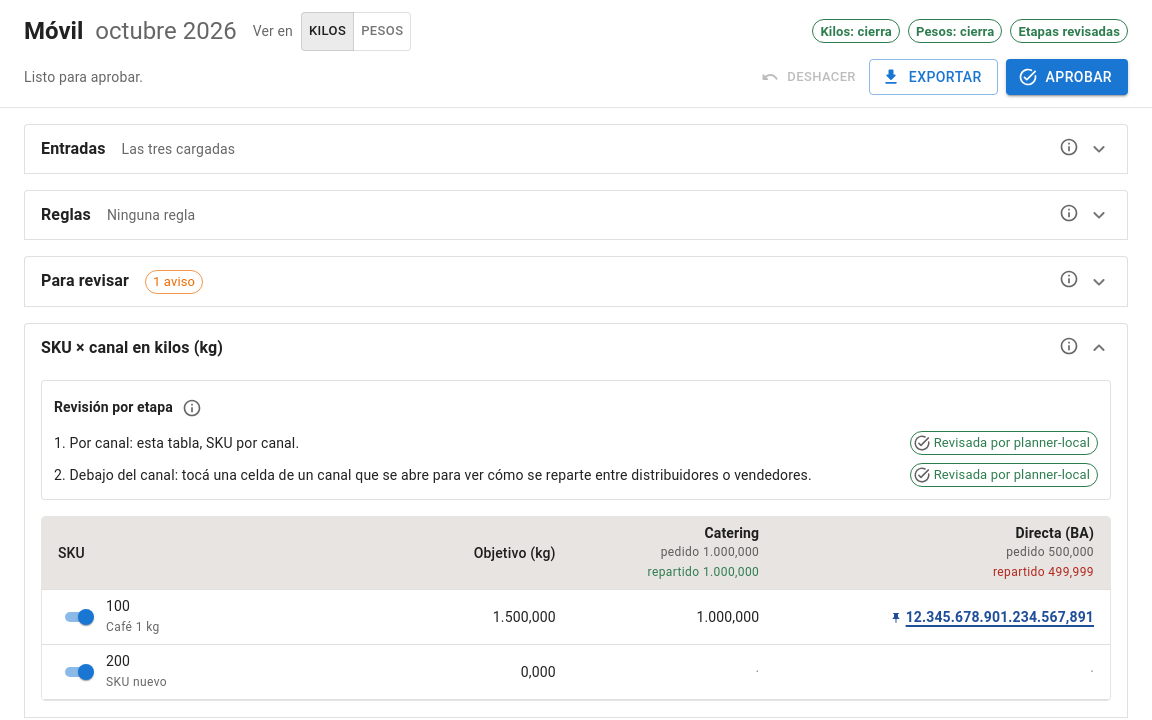
Scenario: MovilPage › desde el aviso de una celda que no se abre se va a esa celda
This screenshot has width=1152, height=720.
Click the button "Para revisar 1 aviso": click(85, 281) [41,270,1111,294]
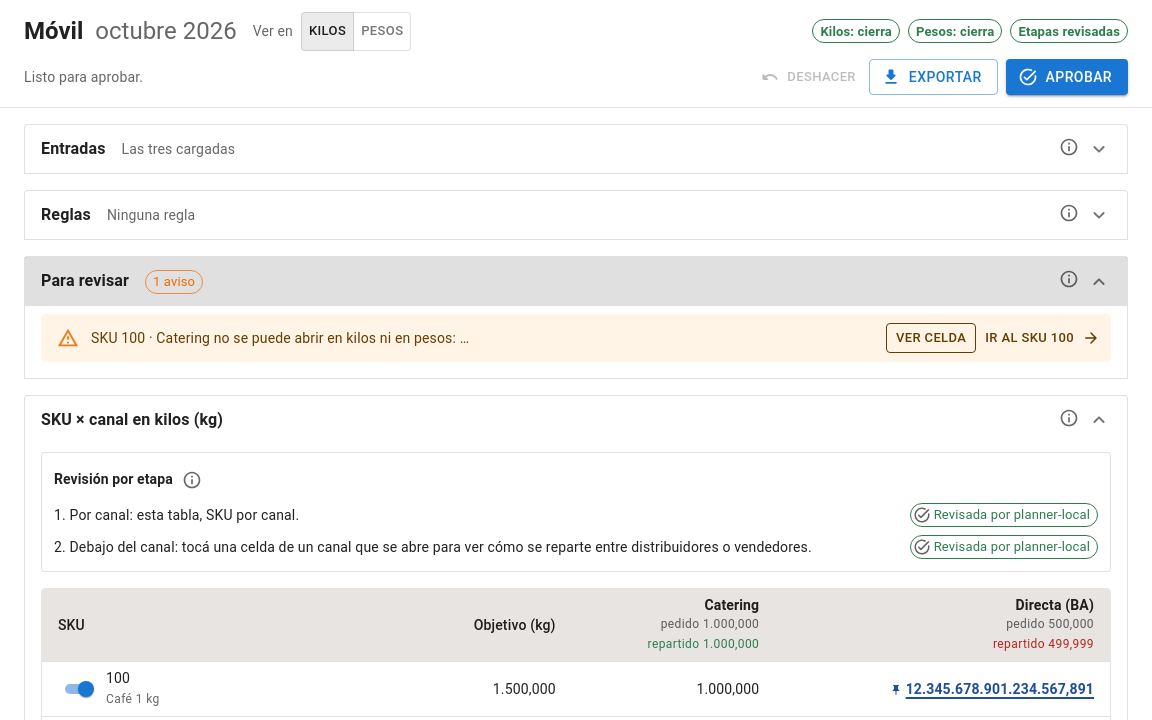
Click the button with aria-label "Ver celda 100 · Catering": click(931, 338) [886,323,976,353]
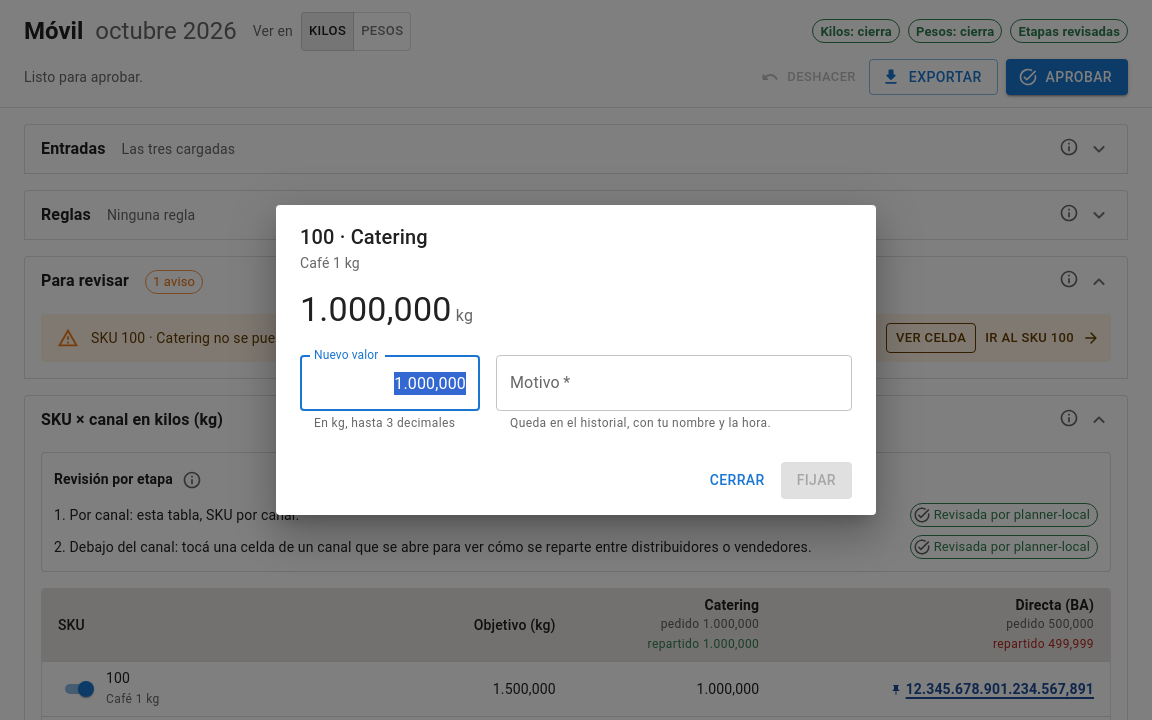
Now the dialog shows "100 · Catering", box [276,205,876,515]
